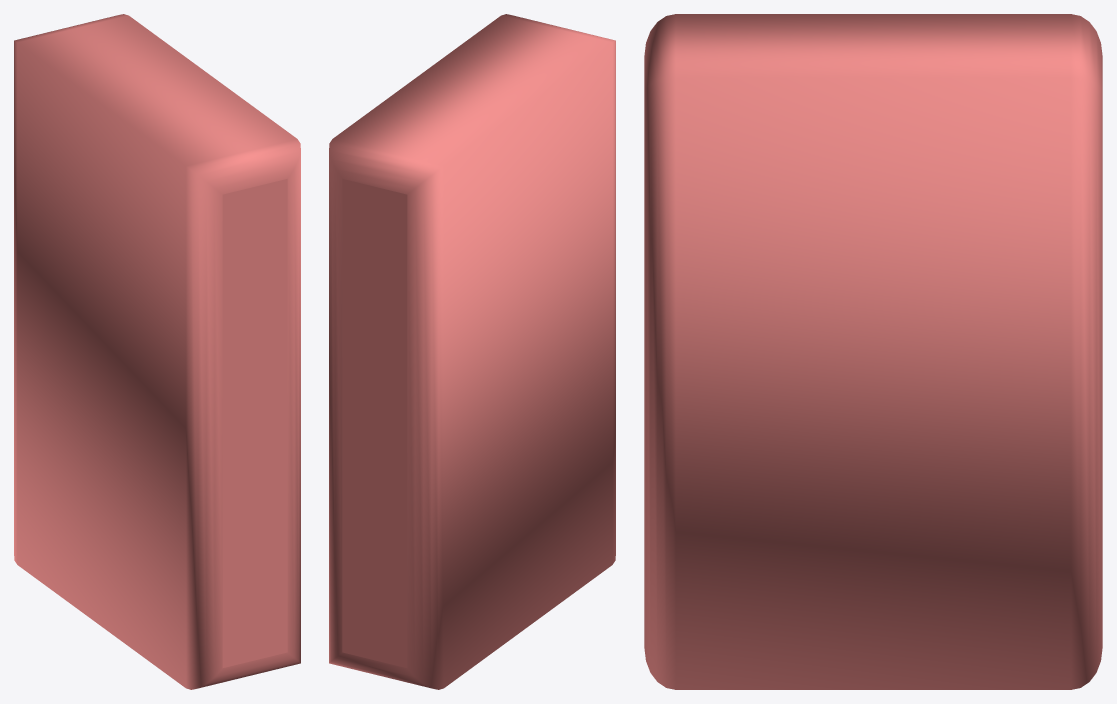
File: letter_I.glb
3 renders of one model, left to right at view 1: azimuth 30°, elevation 25°; view 2: azimuth 150°, elevation 25°; view 3: azimuth 270°, elevation 25°, orthographic. The views are drawn at different scales.
Parts seen in each view (by area): view 1: Text; view 2: Text; view 3: Text.
Part boxes in pixels (x1,y1,x2,y2): Text: [14, 14, 300, 689]; Text: [329, 14, 615, 689]; Text: [644, 14, 1102, 689].
Size of the model in its own units: 0.168 by 0.752 by 0.51.
